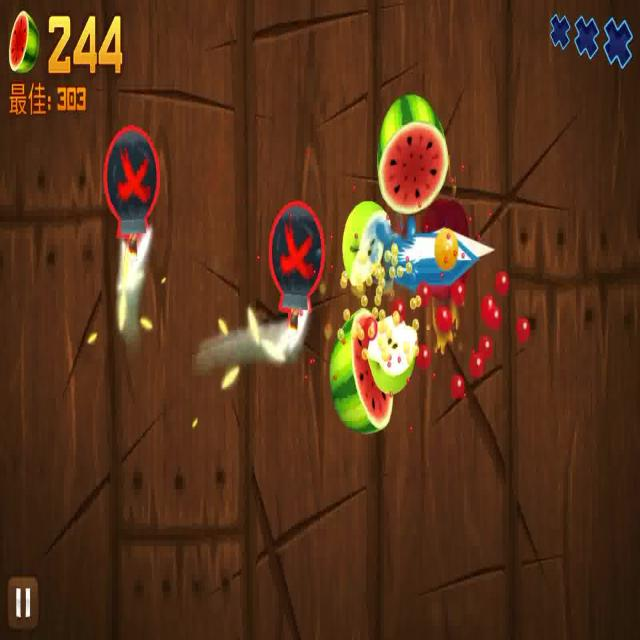bomb: (103, 120, 160, 282), (266, 194, 326, 346)
fruit: (374, 92, 446, 211), (326, 311, 394, 436), (366, 314, 419, 396), (344, 197, 384, 277)
